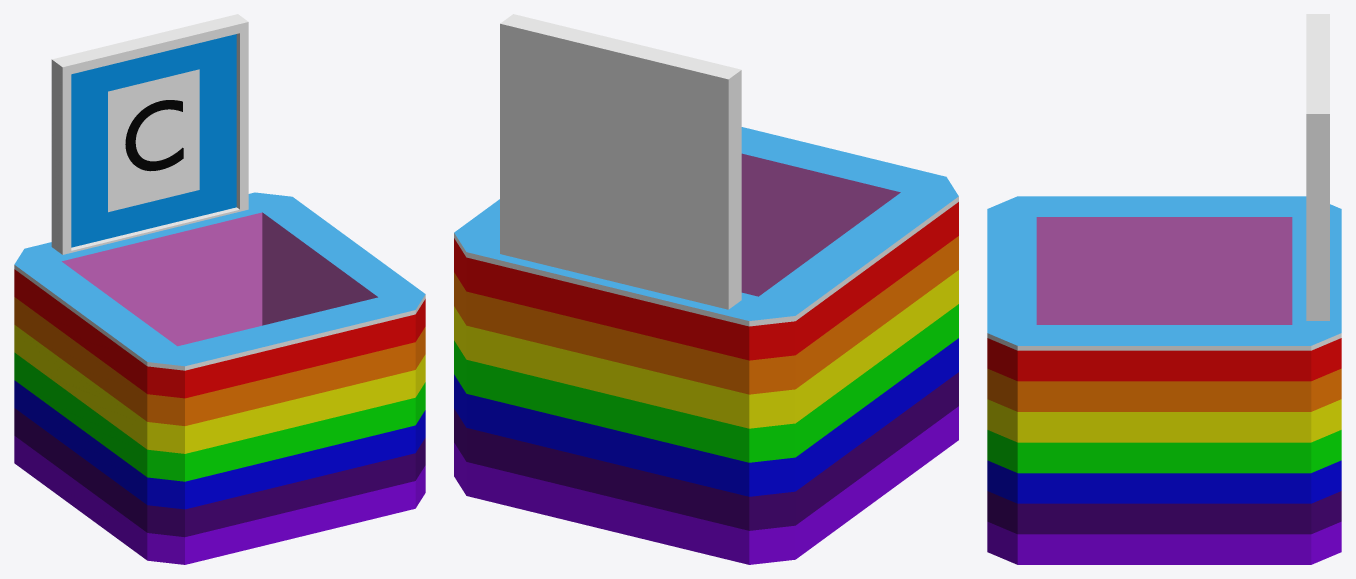
3 renders of one model, left to right at view 1: azimuth 30°, elevation 25°; view 2: azimuth 150°, elevation 25°; view 3: azimuth 270°, elevation 25°, orthographic. The views are drawn at different scales.
Visible parts, largest first — view 1: Cube.001, Text; view 2: Cube.001; view 3: Cube.001.
Boxes of the visible parts, box(x1,y1,x2,y2) form: Cube.001: box(14, 14, 425, 564); Text: box(125, 100, 183, 171); Cube.001: box(454, 14, 958, 564); Cube.001: box(987, 14, 1341, 564).
Bounding box in the file's own units: 383 × 508 × 383.
